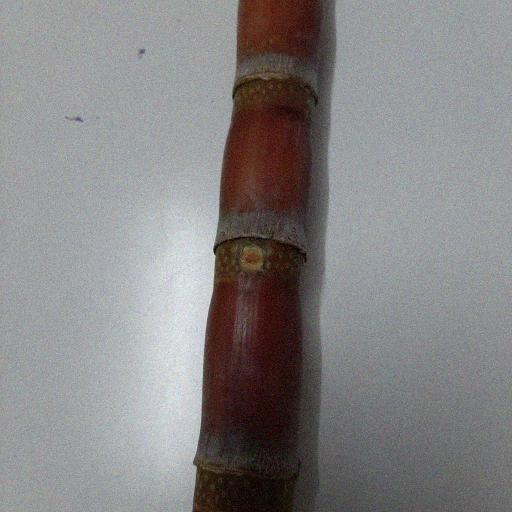Damage_Bud: (240, 246, 267, 277)
